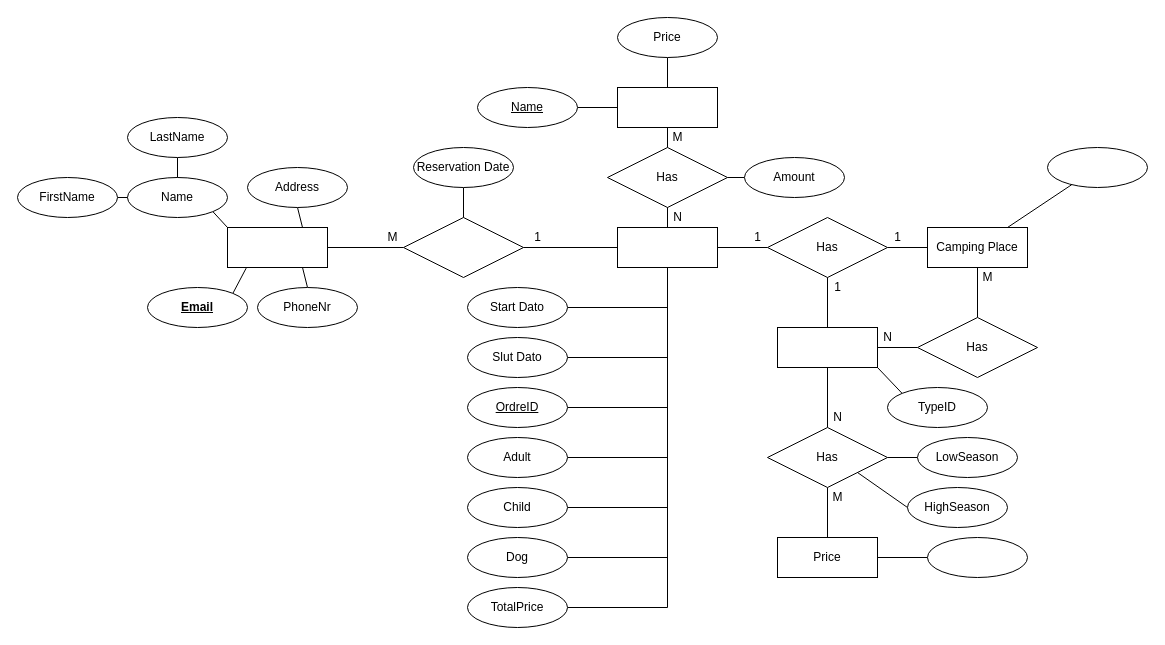
Some shapes in this 1165 by 645 pixel diagram are drawn without their labels. The shapes that lost their labels are listed below. From the top down, each one's centre as x and y in pixels, then its label:
(667,107): Addons
(1097,167): ID
(277,247): Customer
(463,247): Book
(667,247): Reservation
(827,347): Type
(977,557): ID_Name
